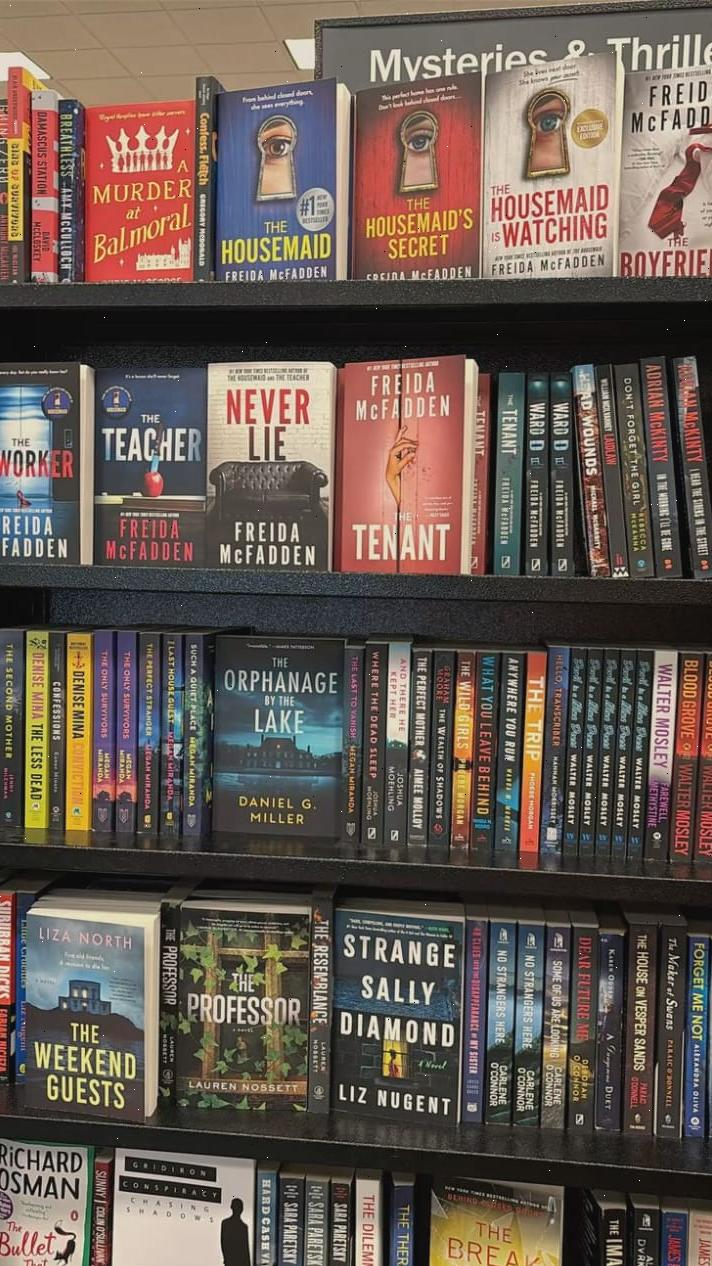book: (482, 54, 622, 272), (351, 67, 487, 277), (341, 365, 467, 577), (215, 77, 345, 277), (209, 365, 327, 570), (92, 367, 210, 568), (615, 58, 712, 278), (0, 366, 92, 570), (0, 1137, 94, 1266), (428, 1178, 560, 1266), (638, 357, 686, 578), (668, 355, 712, 581), (613, 364, 659, 579), (570, 365, 615, 578), (480, 909, 518, 1123), (589, 915, 626, 1130), (668, 655, 704, 872), (623, 916, 658, 1130), (566, 915, 601, 1128), (653, 920, 687, 1138), (644, 653, 678, 871), (539, 647, 571, 866), (540, 912, 573, 1123), (680, 930, 712, 1144), (513, 912, 545, 1122), (519, 648, 549, 865), (493, 372, 523, 573), (381, 644, 410, 850), (496, 651, 524, 864), (461, 909, 489, 1120), (548, 372, 577, 575), (628, 653, 655, 868), (612, 653, 639, 866), (561, 653, 588, 863), (65, 634, 93, 836), (577, 655, 604, 864), (523, 373, 551, 574), (158, 892, 184, 1108), (24, 634, 51, 837), (428, 652, 455, 855), (472, 651, 498, 860), (595, 654, 621, 863), (193, 78, 220, 279), (450, 650, 476, 857), (309, 899, 334, 1111), (0, 631, 25, 833), (184, 636, 208, 842), (115, 634, 139, 838), (138, 636, 162, 838), (361, 644, 384, 848), (409, 647, 432, 851), (47, 634, 68, 836), (342, 644, 363, 844), (162, 636, 182, 839), (385, 1173, 419, 1266), (273, 1165, 304, 1266), (253, 1163, 280, 1266), (302, 1171, 329, 1266)
